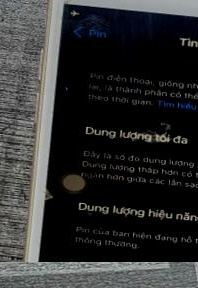physical_damage: (31, 169, 108, 224)
